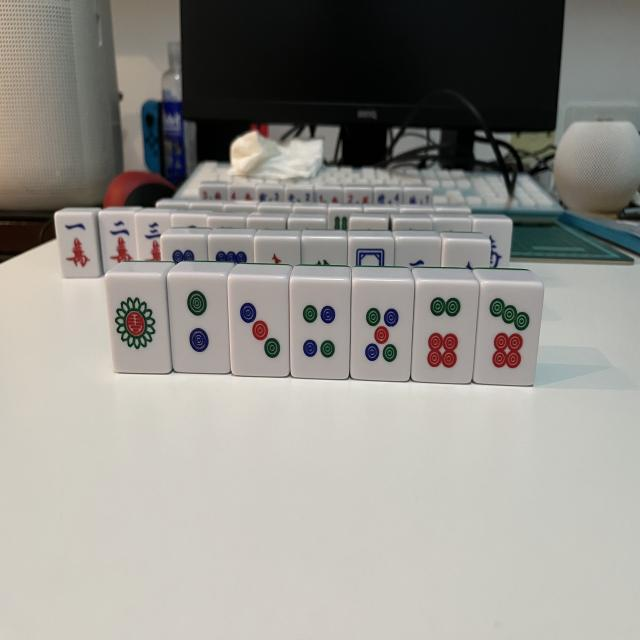m1: (56, 212, 102, 279)
m2: (98, 214, 139, 275)
m3: (135, 214, 171, 261)
t1: (105, 275, 171, 374)
t2: (168, 274, 230, 372)
t3: (228, 276, 288, 376)
t4: (290, 281, 352, 378)
t5: (351, 281, 415, 381)
t6: (413, 283, 480, 384)
t7: (473, 282, 542, 384)
